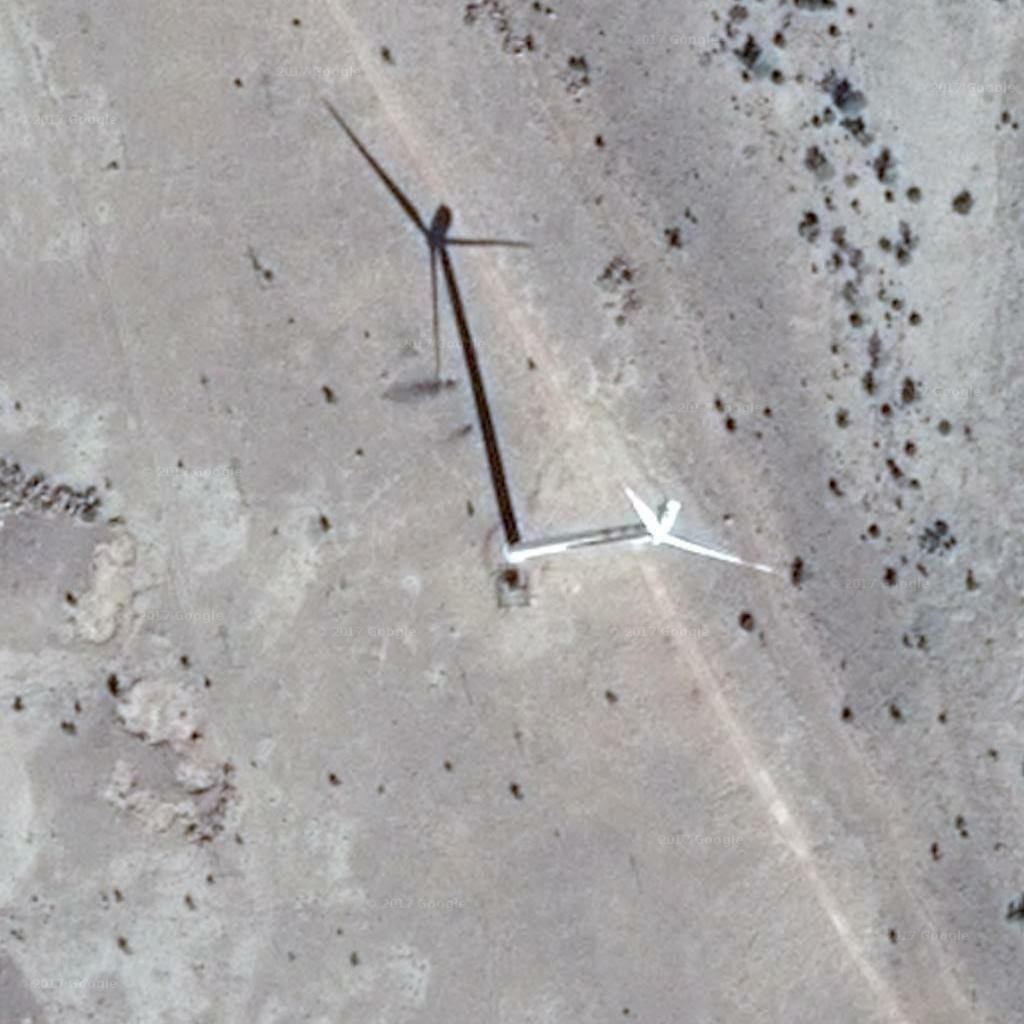Windmill: (319, 95, 574, 532)
